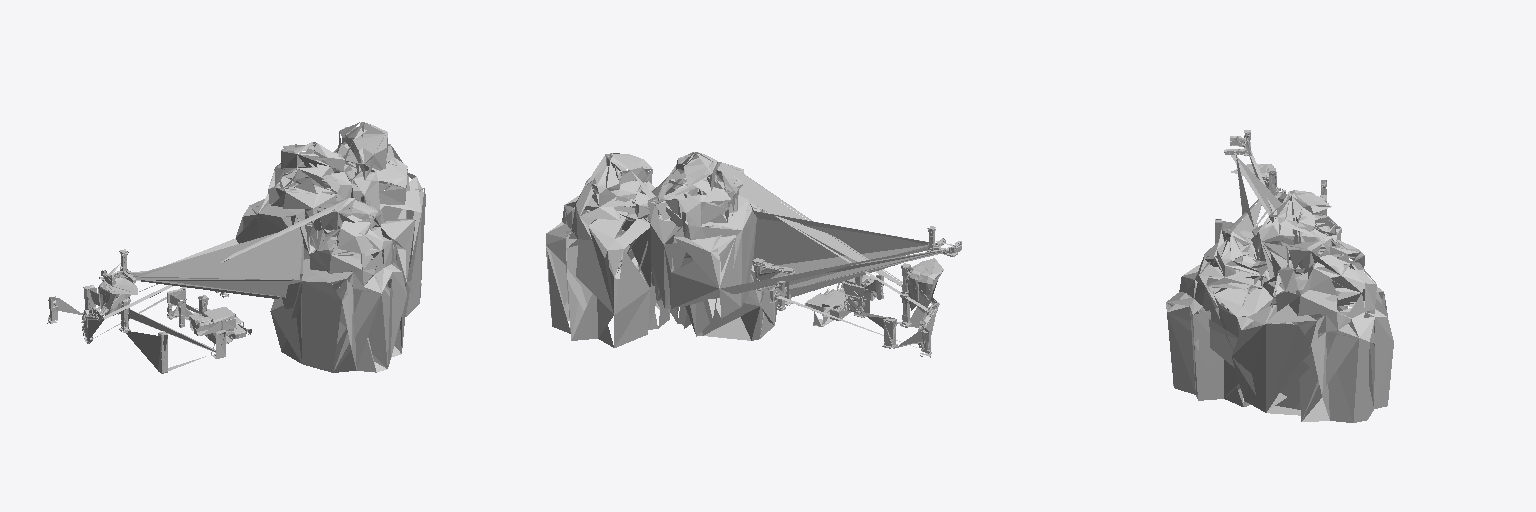
The model's file is cellRuins_Overpass_Proxy-sharedassets3.assets-650.obj.
3 renders of one model, left to right at view 1: azimuth 30°, elevation 25°; view 2: azimuth 150°, elevation 25°; view 3: azimuth 270°, elevation 25°, orthographic.
Parts seen in each view (by area): view 1: cellRuins_Overpass_Proxy_3, cellRuins_Overpass_Proxy_0, cellRuins_Overpass_Proxy_4; view 2: cellRuins_Overpass_Proxy_3, cellRuins_Overpass_Proxy_0, cellRuins_Overpass_Proxy_4, cellRuins_Overpass_Proxy_6; view 3: cellRuins_Overpass_Proxy_3, cellRuins_Overpass_Proxy_4, cellRuins_Overpass_Proxy_0.
Boxes of the visible parts, box(x1,y1,x2,y2) form: cellRuins_Overpass_Proxy_3: box(48, 122, 425, 373); cellRuins_Overpass_Proxy_0: box(47, 169, 396, 372); cellRuins_Overpass_Proxy_4: box(85, 122, 407, 372); cellRuins_Overpass_Proxy_3: box(546, 152, 961, 353); cellRuins_Overpass_Proxy_0: box(588, 162, 961, 357); cellRuins_Overpass_Proxy_4: box(573, 153, 941, 340); cellRuins_Overpass_Proxy_6: box(906, 262, 943, 312); cellRuins_Overpass_Proxy_3: box(1166, 130, 1393, 422); cellRuins_Overpass_Proxy_4: box(1166, 164, 1364, 406); cellRuins_Overpass_Proxy_0: box(1194, 136, 1386, 316).
Size of the model in its own units: 227 by 109 by 121.